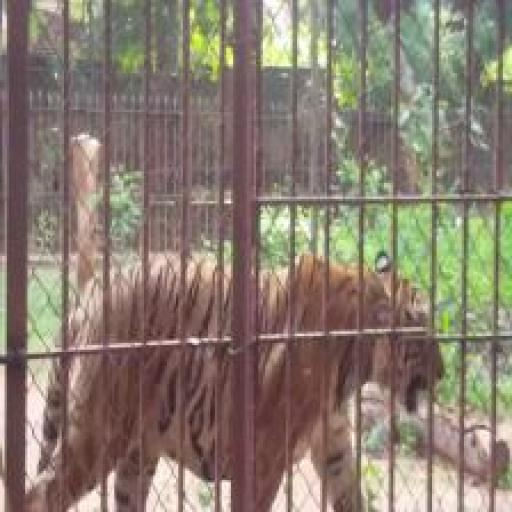Tiger: (27, 167, 448, 512)
